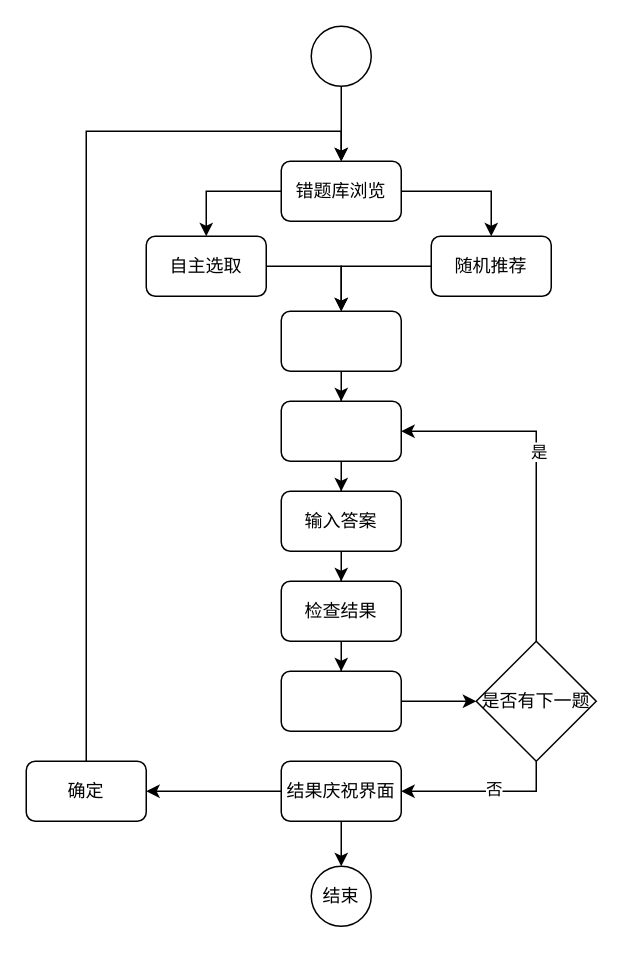
Some shapes in this 623 by 953 pixel diagram are drawn without their labels. Each missing label, with the centre of its shape:
开始: point (340, 55)
开始练习: point (340, 340)
浏览题目: point (340, 430)
继续: point (340, 700)
